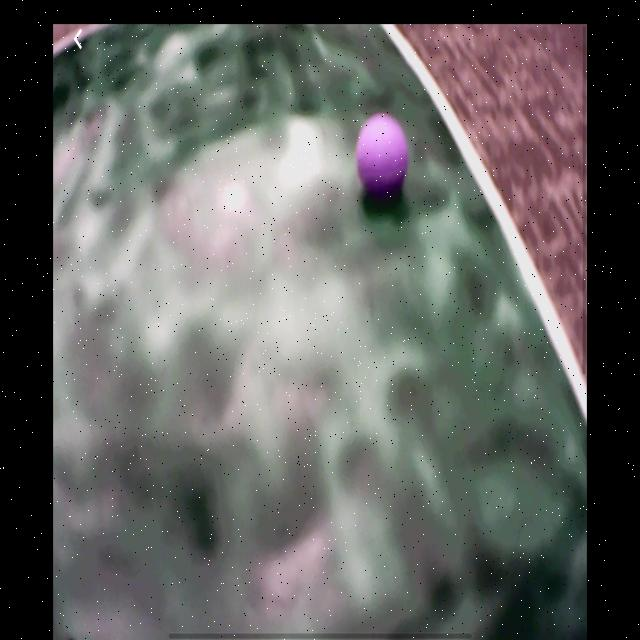ball: (359, 117, 407, 193)
